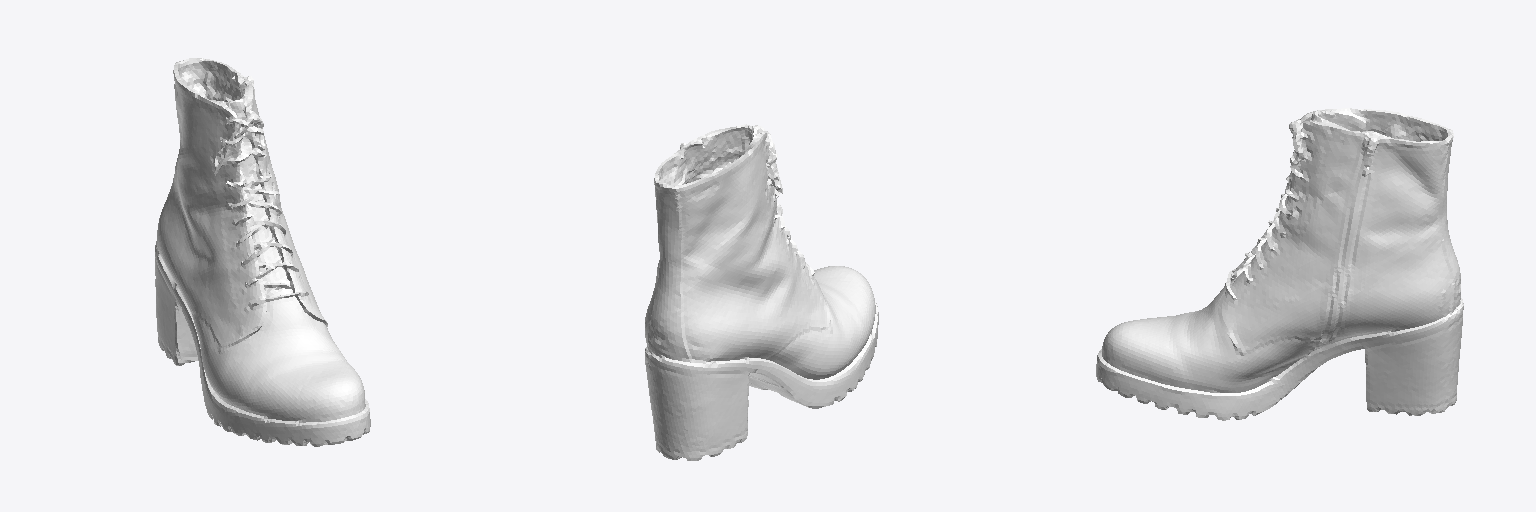
The model's file is Worn_vagabond_leather_boot_women_SF.obj.
3 renders of one model, left to right at view 1: azimuth 30°, elevation 25°; view 2: azimuth 150°, elevation 25°; view 3: azimuth 270°, elevation 25°, orthographic.
Visible parts, largest first — view 1: Worn_vagabond_leather_boot_women; view 2: Worn_vagabond_leather_boot_women; view 3: Worn_vagabond_leather_boot_women.
Boxes of the visible parts, x1=… form: Worn_vagabond_leather_boot_women: x1=155, y1=58, x2=370, y2=446; Worn_vagabond_leather_boot_women: x1=645, y1=124, x2=878, y2=460; Worn_vagabond_leather_boot_women: x1=1096, y1=108, x2=1463, y2=420.
Size of the model in its own units: 3.82 by 8.86 by 10.3.